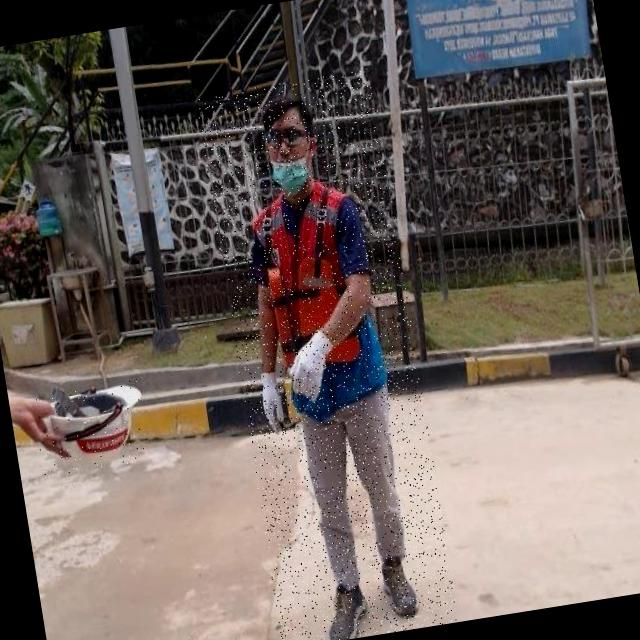boots: (320, 578, 374, 640), (376, 552, 422, 622)
gloves: (283, 328, 340, 407), (256, 368, 290, 435)
helmet: (31, 377, 152, 477)
no-gloves: (7, 380, 68, 458)
no-helmet: (258, 92, 326, 198)
vest: (248, 170, 389, 417)
